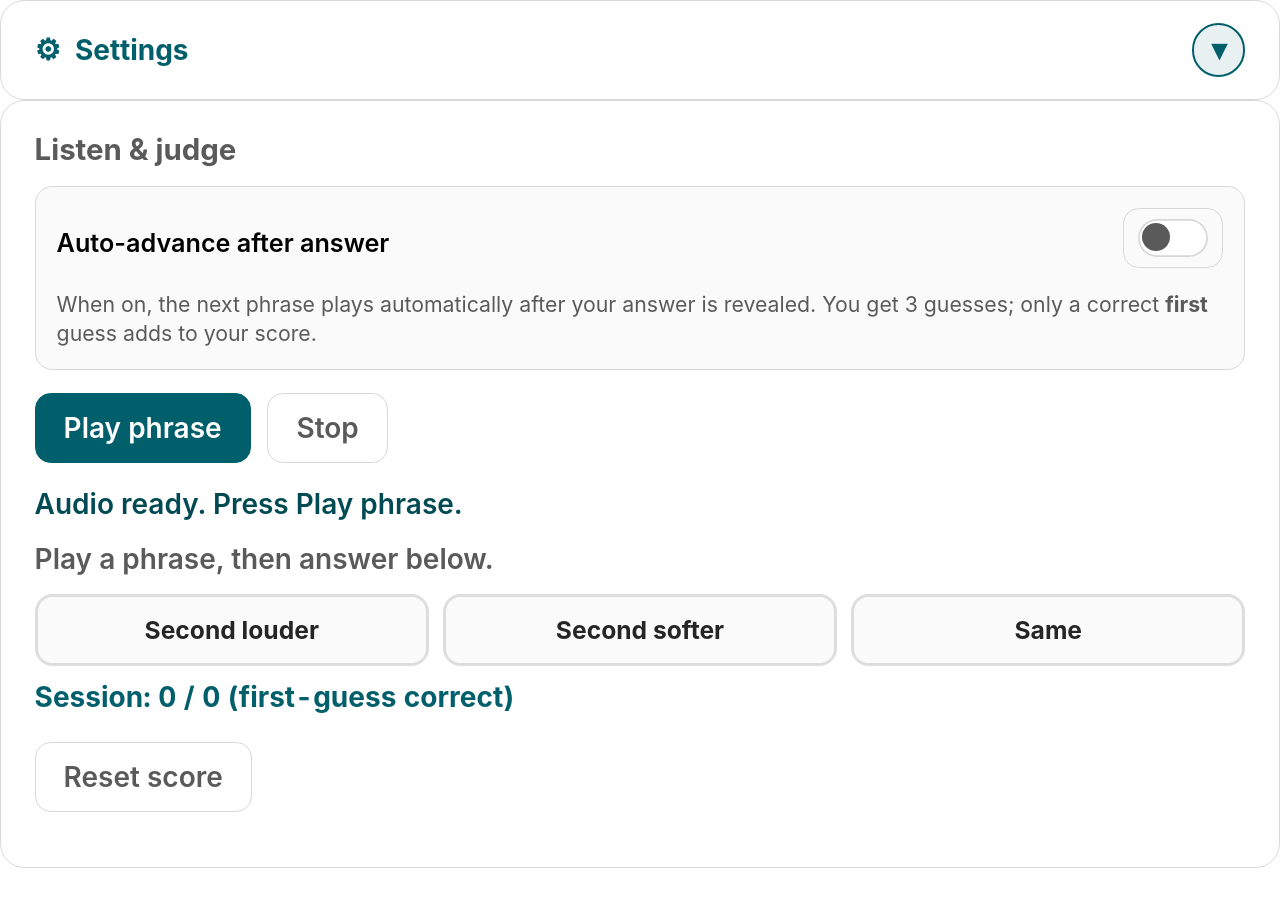
Test case: DynamicsArticulationTopic — dynamics mode first-guess scoring (docs/05-topics/12 §7) › counts a first-try correct answer as total+1, correct+1
Click the button "Play phrase". click: click(143, 428)
box: [35,393,251,463]
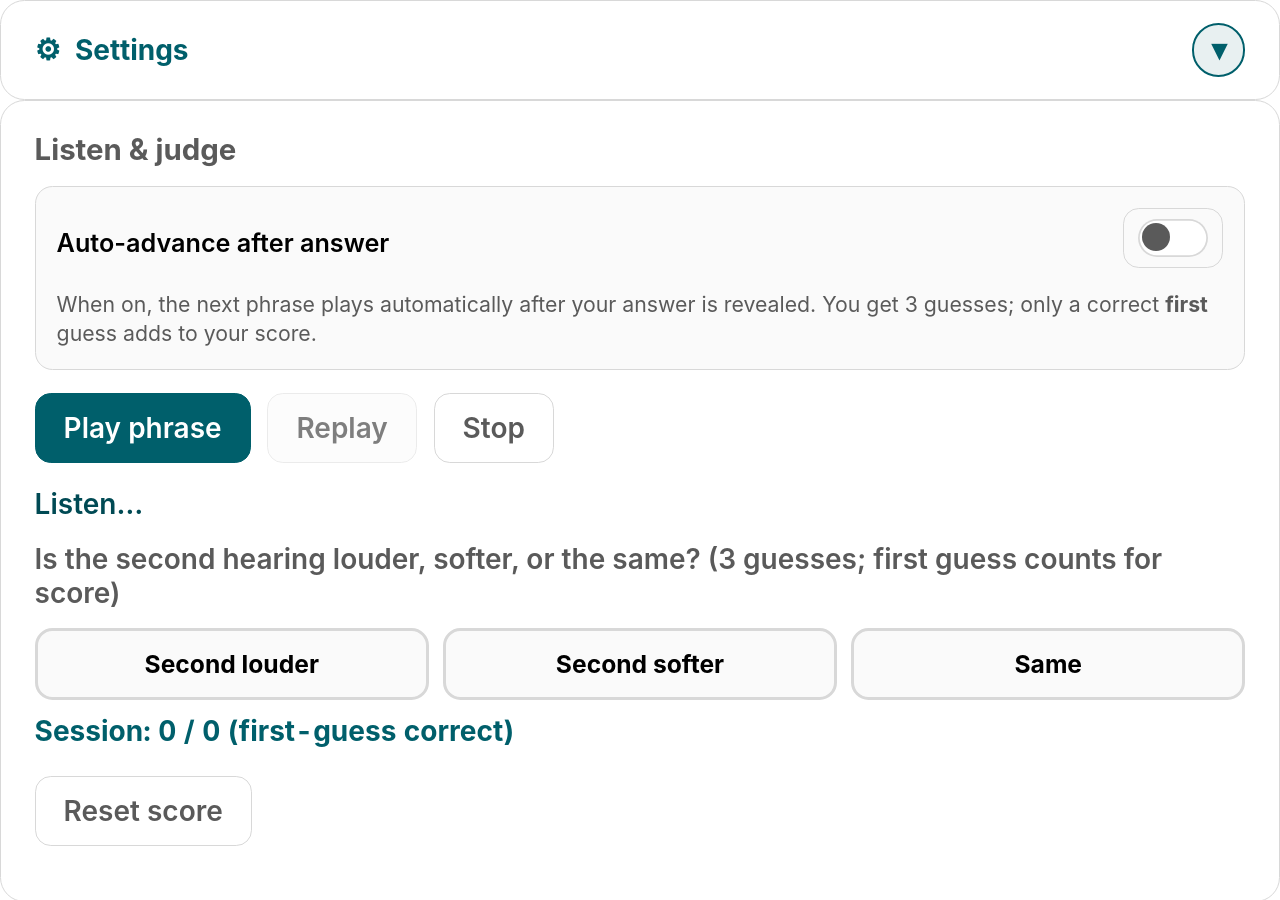
Click the button "Second softer". click: click(640, 664)
box: [443,628,837,700]
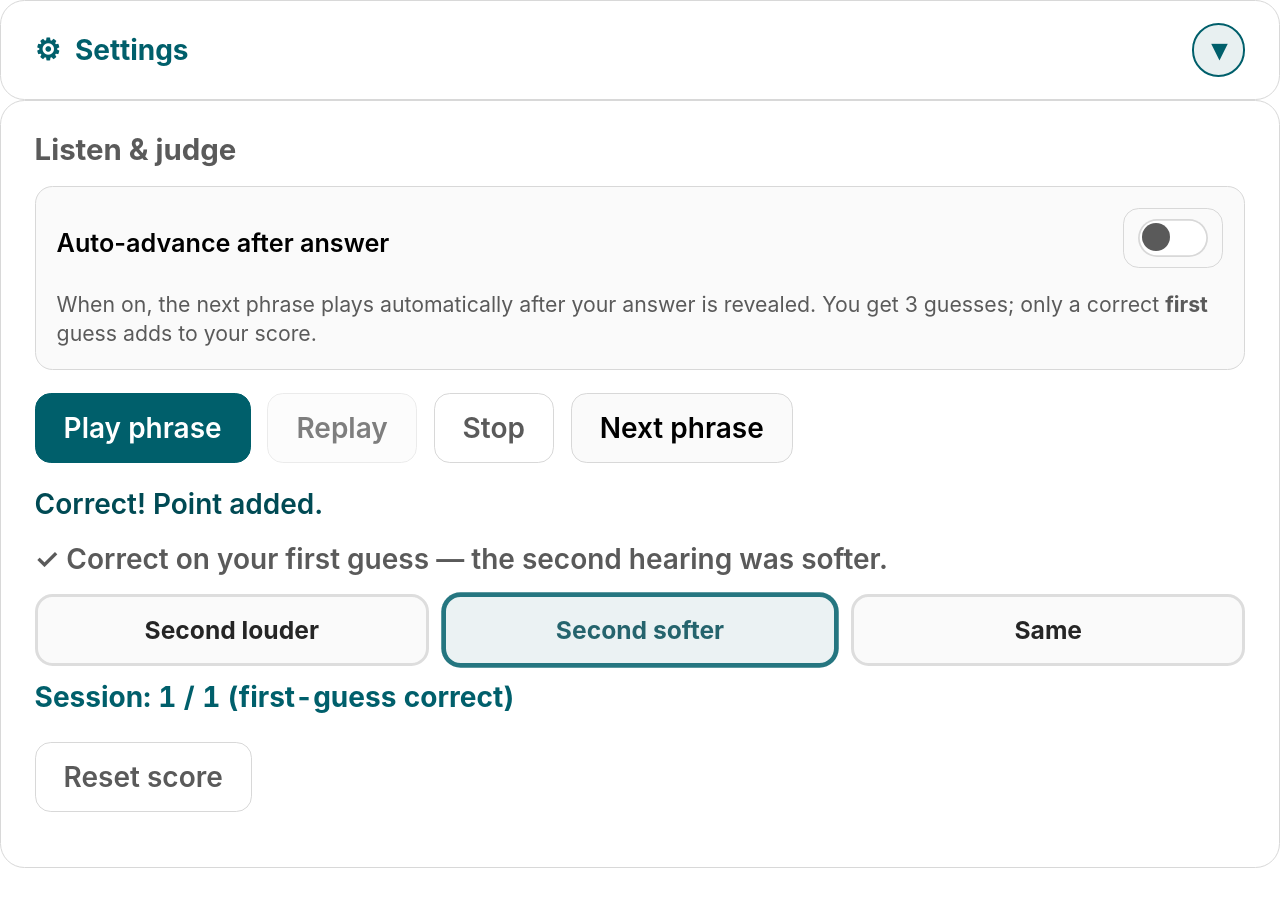
Result: the text "Session: 1 / 1 (first-guess correct)" is shown at [35,680,514,714]
